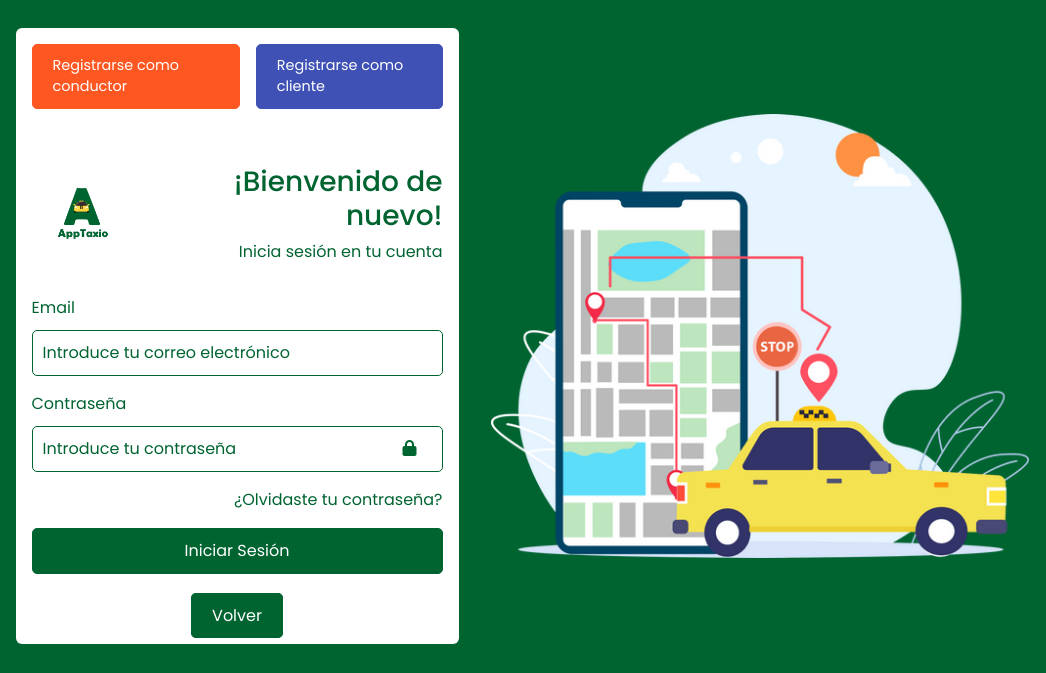
Scenario: Login Component › shows error on incorrect login
Note: Simulamos cambios en los campos de correo y contraseña y un clic en el botón de inicio de sesión
Type "valid.email@example.com" into the field with placeholder "Introduce tu correo electrónico" at [237, 353], box [32,330,442,376]
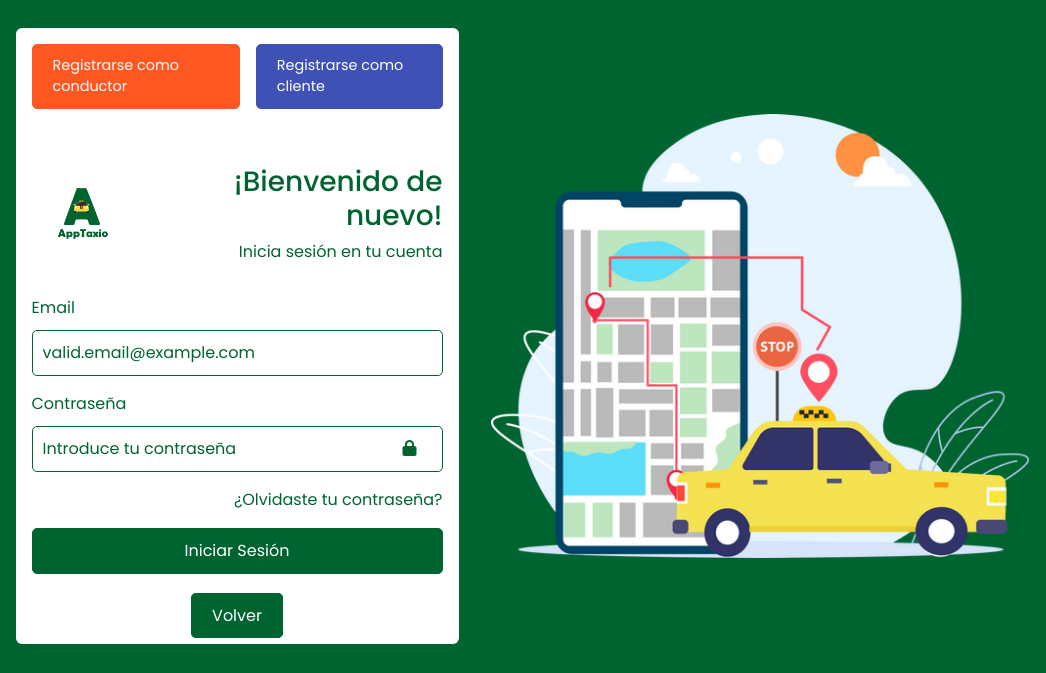
Type "ValidPassword123!" into the password field with placeholder "Introduce tu contraseña" at [237, 449], box [32,426,442,472]
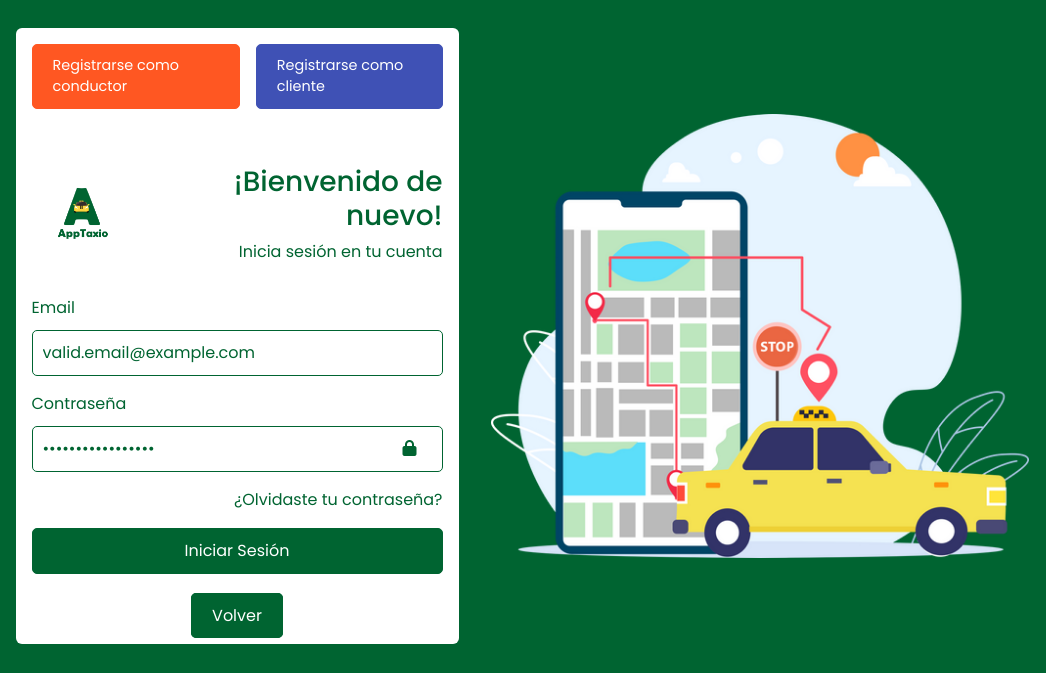
Click the button "Iniciar Sesión" at [237, 551], box [32,528,442,574]
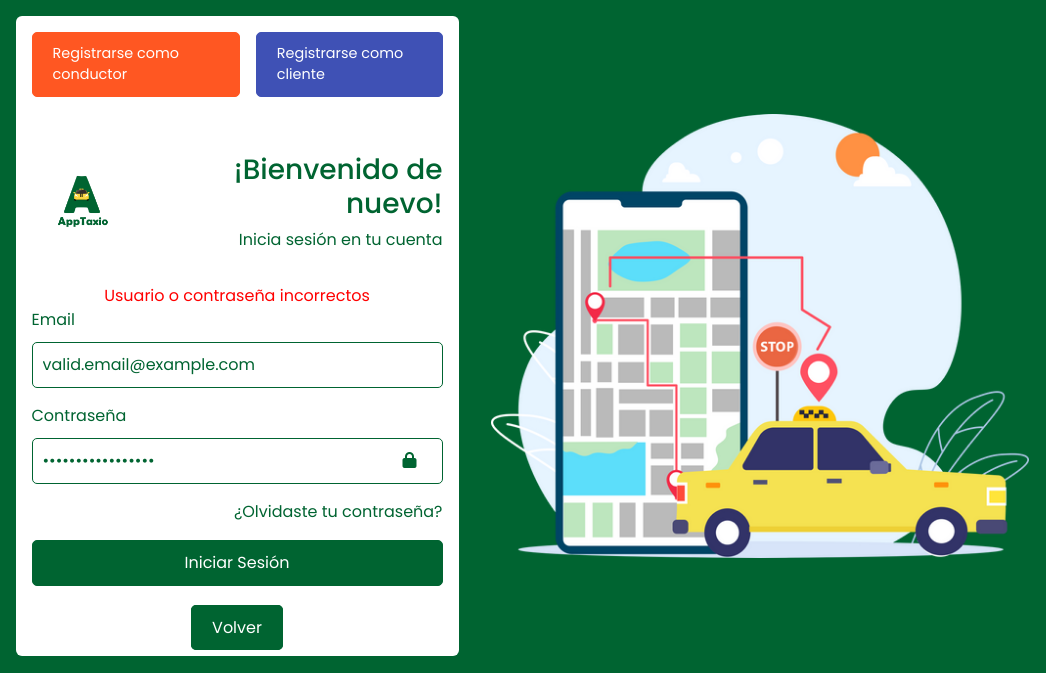
Now the text "Usuario o contraseña incorrectos" is shown, box [104,284,370,307]
